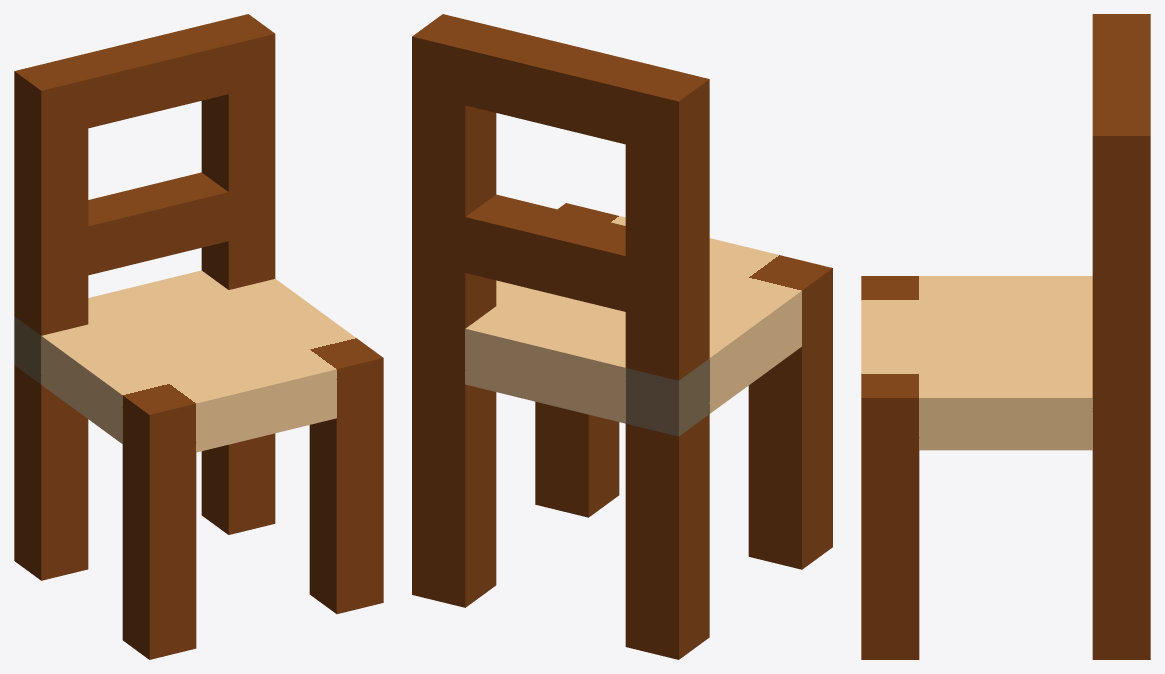
Rendered from Chair2.obj.
The picture shows the model from 3 angles, left to right: view 1: azimuth 30°, elevation 25°; view 2: azimuth 150°, elevation 25°; view 3: azimuth 270°, elevation 25°; orthographic projection. The views are drawn at different scales.
Visible parts, largest first — view 1: Chair2; view 2: Chair2; view 3: Chair2.
Boxes of the visible parts, x1,y1,x2,y2 form: Chair2: (14, 14, 383, 659); Chair2: (412, 14, 832, 659); Chair2: (861, 14, 1150, 659).
Size of the model in its own units: 5 by 10 by 5.
